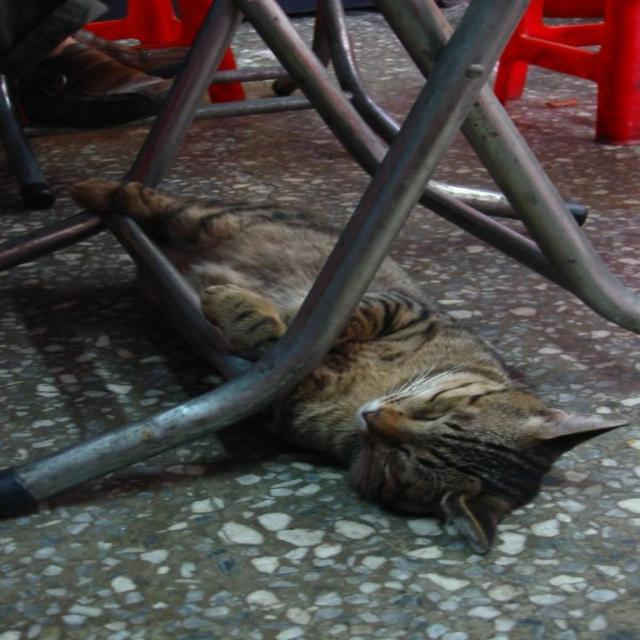Cat: (71, 178, 625, 546)
